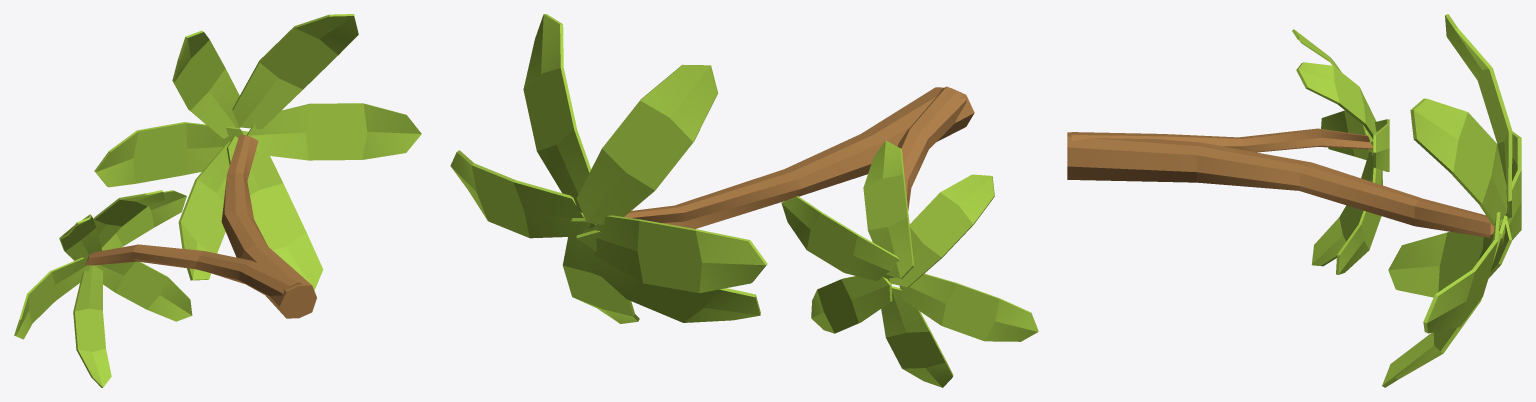
File: palm2.dae
3 views of the same model, side by side, from view 1: azimuth 30°, elevation 25°; view 2: azimuth 150°, elevation 25°; view 3: azimuth 270°, elevation 25° (orthographic). The views are drawn at different scales.
Parts seen in each view (by area): view 1: Green, Brown; view 2: Green, Brown; view 3: Green, Brown.
Part boxes in pixels (x1,y1,x2,y2): Green: (14,14,421,387); Brown: (85,135,316,318); Green: (450,14,1038,387); Brown: (624,86,974,228); Green: (1292,14,1521,387); Brown: (1067,128,1494,237).
Bounding box in the file's own units: 1.04 × 0.751 × 0.6088.
